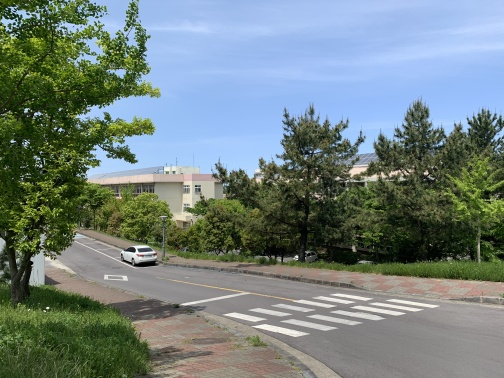College Of Education: (88, 152, 252, 223)
